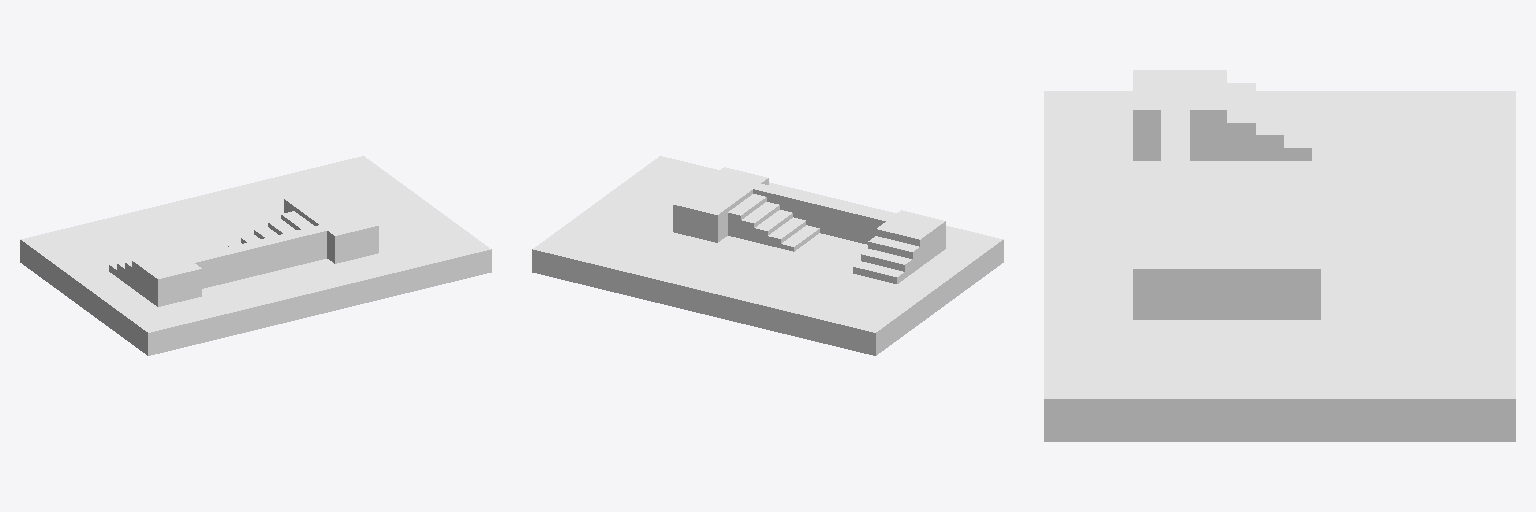
URDF robot description (stair_bauzil):

<robot name="stair_bauzil">
  <link name="base_link">
    <visual>
      <origin xyz="0 0 0" rpy="0 0 0" />
      <geometry>
        <mesh filename="package://hpp-rbprm-corba/meshes/bauzil_stairs_noRamp_simplified.stl"/>
      </geometry>
      <material name="white">
        <color rgba="1 1 1 1"/>
      </material>
    </visual>
    <collision>
      <origin xyz="0 0 0" rpy="0 0 0" />
      <geometry>
        <mesh filename="package://hpp-rbprm-corba/meshes/bauzil_stairs_noRamp_simplified.stl"/>
      </geometry>
    </collision>
  </link>
</robot>

--- Facts derived from the render (not from the file) ---
The picture shows the robot from 3 angles, left to right: view 1: azimuth 30°, elevation 25°; view 2: azimuth 150°, elevation 25°; view 3: azimuth 270°, elevation 25°; orthographic projection.
Model stair_bauzil with 1 links and 0 joints (none), rooted at base_link, posed every joint at zero.
Visible links, largest first — view 1: base_link; view 2: base_link; view 3: base_link.
Boxes of the visible links, x1=… form: base_link: x1=20, y1=156, x2=491, y2=355; base_link: x1=532, y1=156, x2=1003, y2=355; base_link: x1=1044, y1=70, x2=1515, y2=441.
Bounding box of the posed robot: 7.75 × 5 × 1.1 m (x, y, z).
Meshes: 1 distinct files referenced, 1 mesh visuals loaded (1 binary STL).
